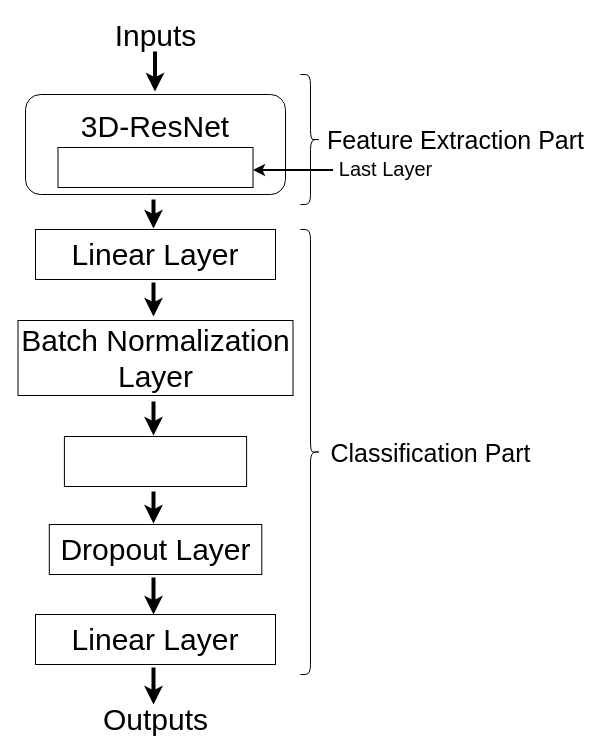
This 607x754 diagram has some shape labels left out. Each missing label, with the centre of its shape:
"Average Pooling" belongs at [155,167].
"ReLu Layer" belongs at [155,461].
